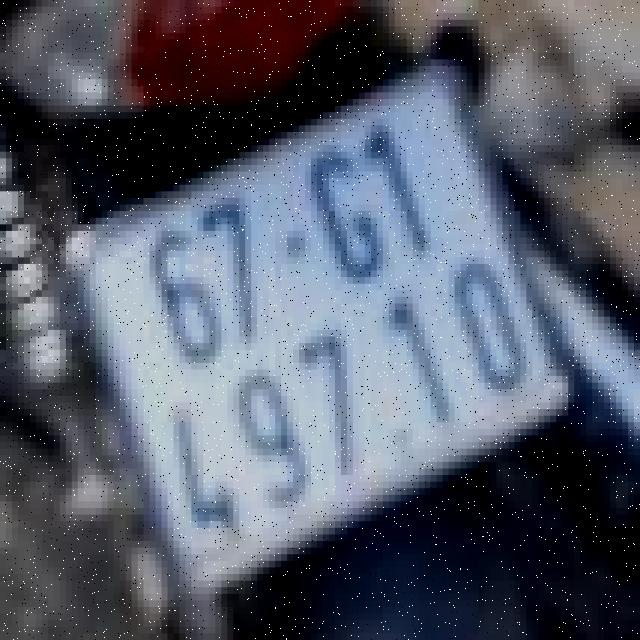0: (431, 241, 542, 403)
1: (345, 98, 454, 273), (361, 282, 471, 439)
4: (147, 387, 261, 555)
6: (133, 212, 236, 374)
7: (279, 310, 383, 487), (196, 178, 286, 360)
9: (217, 353, 325, 521)
G: (295, 128, 401, 300)
